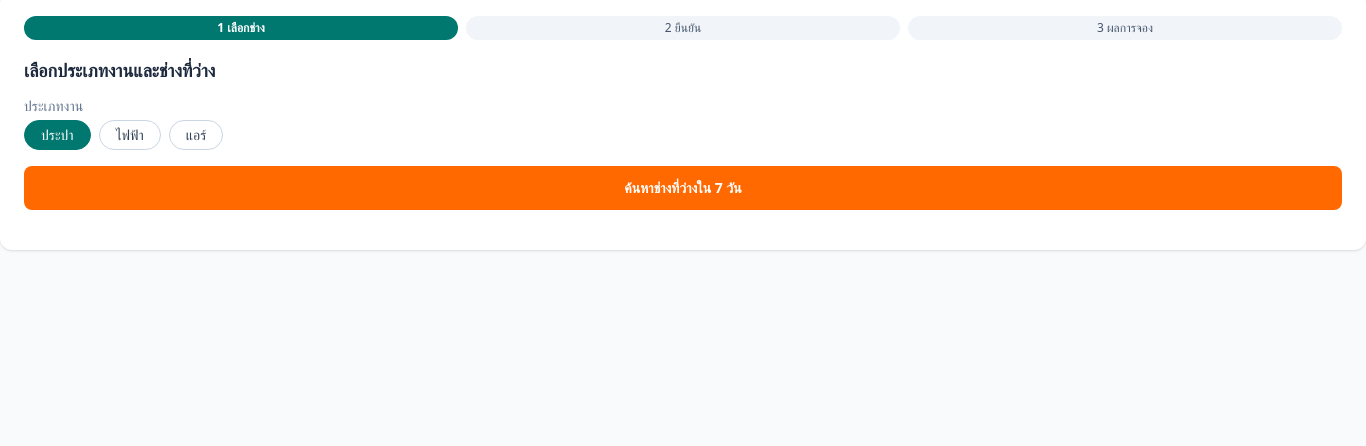
Test: AC-07-14 ขอล็อกช่วงที่สอง ระบบตอบ 409 hold_limit หน้าจอแสดงข้อความของระบบและไม่ไปหน้ายืนยัน
The width and height of the screenshot is (1366, 446).
Click the button "ค้นหาช่างที่ว่างใน 7 วัน": {"x": 683, "y": 188} [24,166,1342,210]
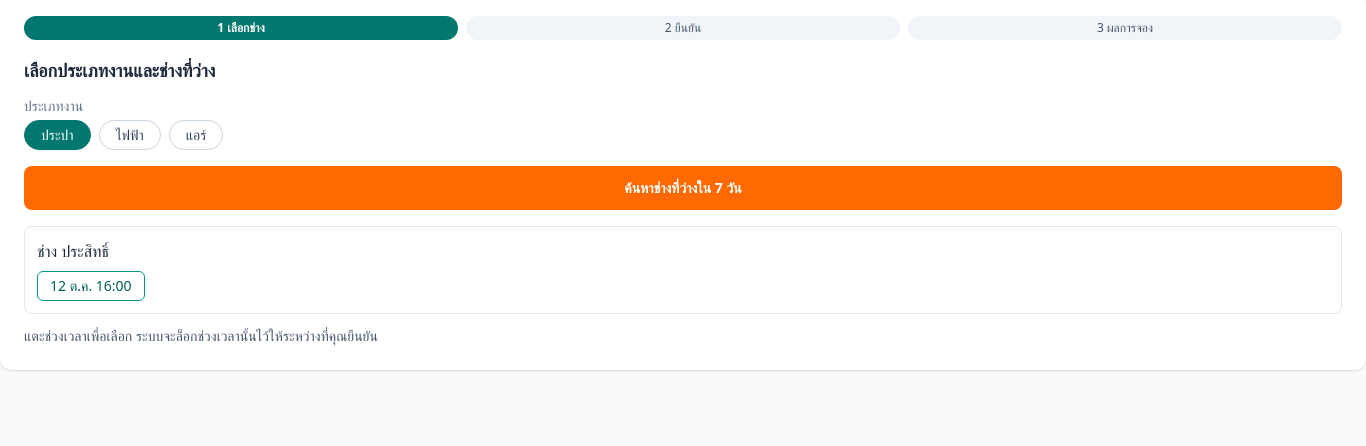
Result: the text "ช่าง ประสิทธิ์" is shown at [37,240,109,262]
Click the button "12 ต.ค. 16:00": {"x": 91, "y": 286} [37,271,145,301]
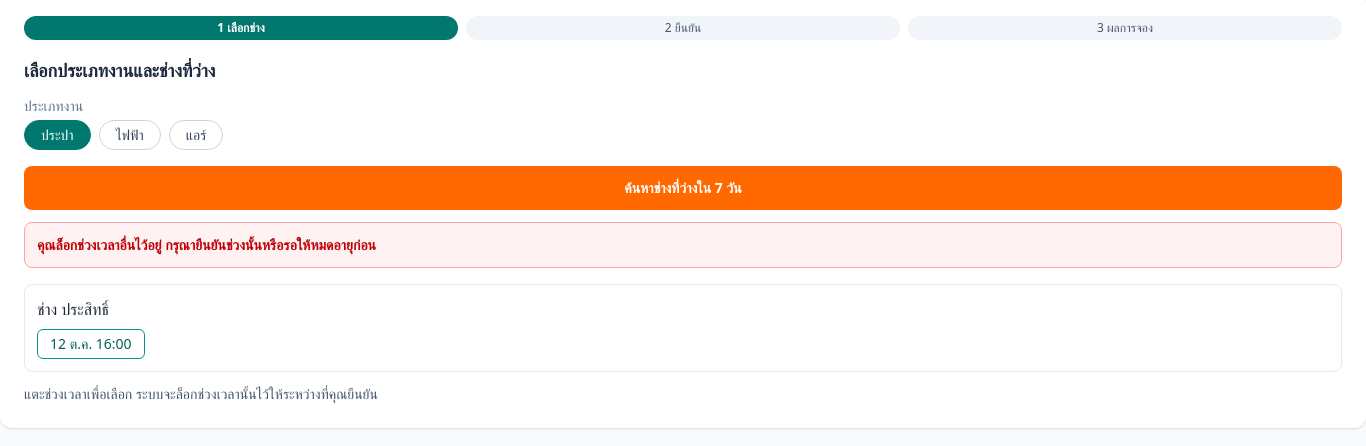
Expected: the message does not show "เพิ่งถูกจองไป", [24,222,1342,268]
Result: the message reads "คุณล็อกช่วงเวลาอื่นไว้อยู่ กรุณายืนยันช่วงนั้นหรือรอให้หมดอายุก่อน" at [37,235,376,254]
